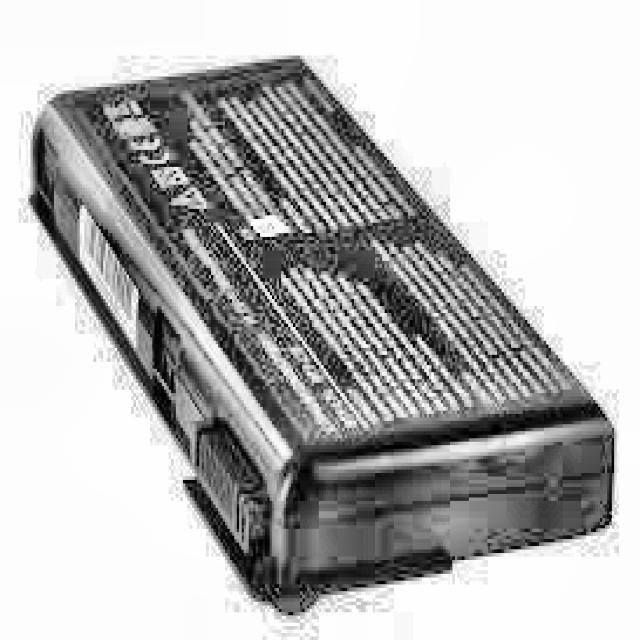Battery: (35, 62, 617, 608)
